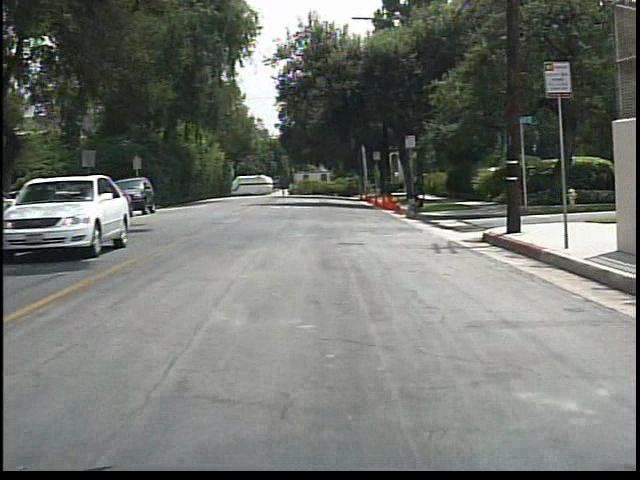person: (402, 190, 431, 221)
